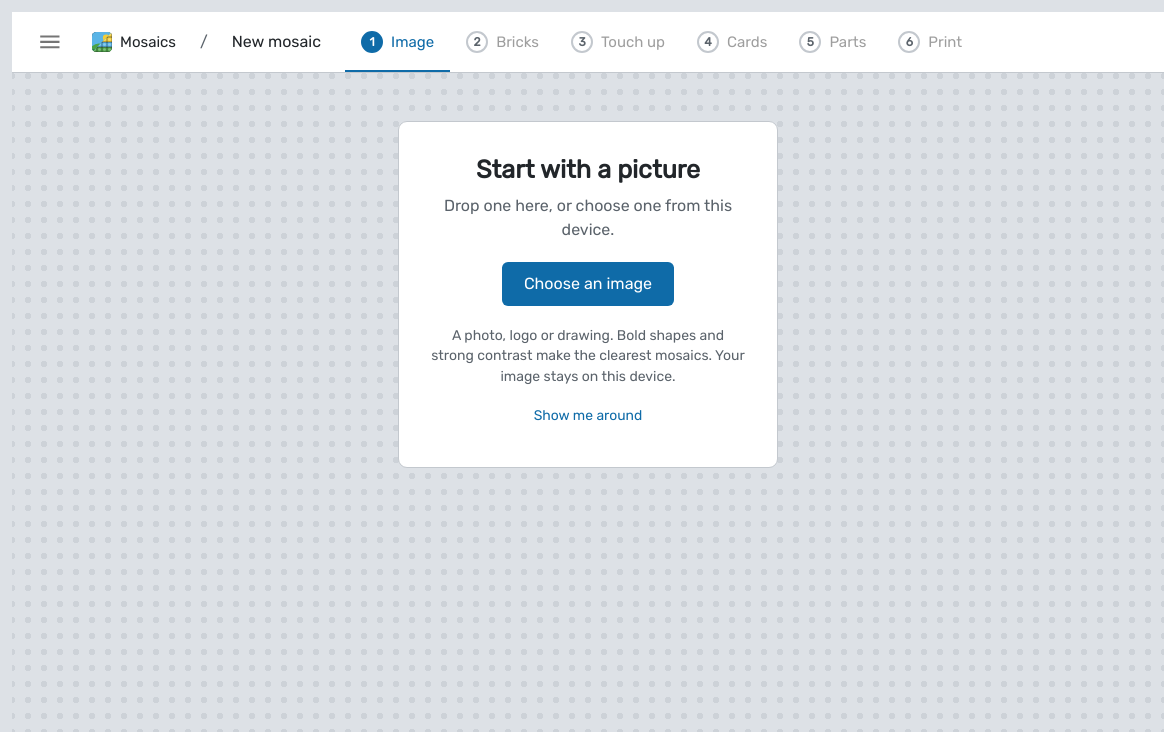
it: Project menu › saves a template: settings only
The image size is (1164, 732).
Step 1. Click the button named "Menu" → (50, 42), box [28,20,72,64]
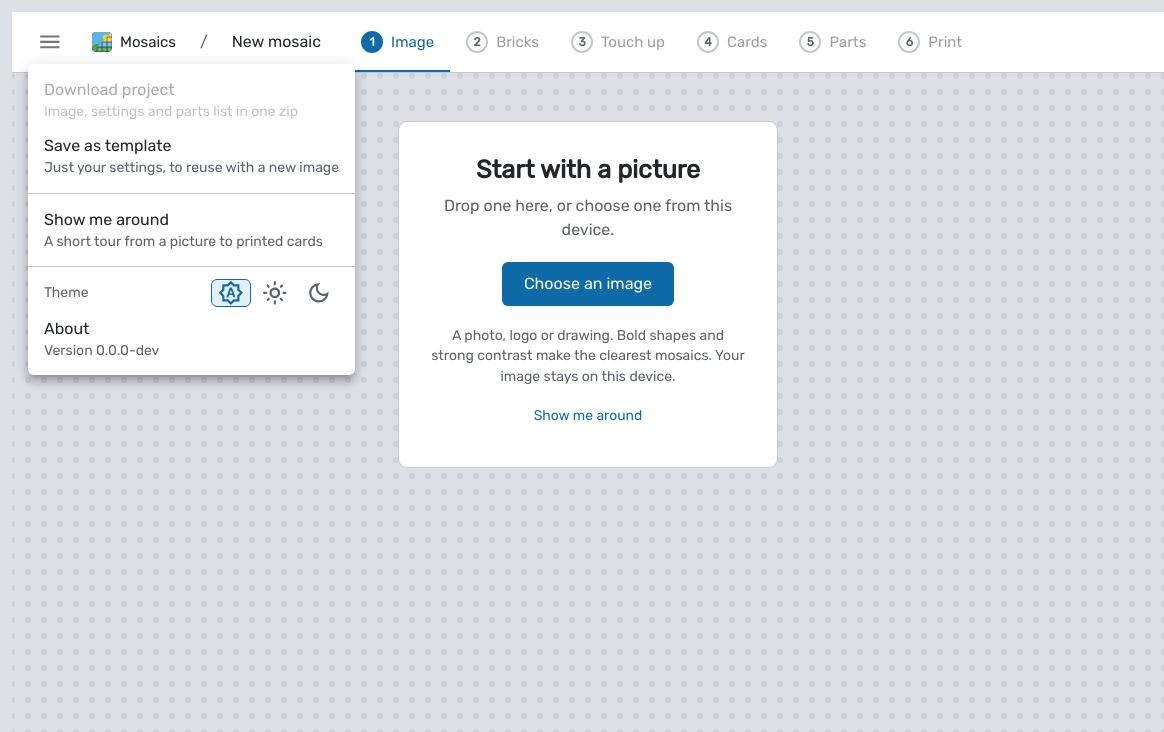
Step 2. Click the menu item "Save as template" → (192, 156), box [28,128,355,185]
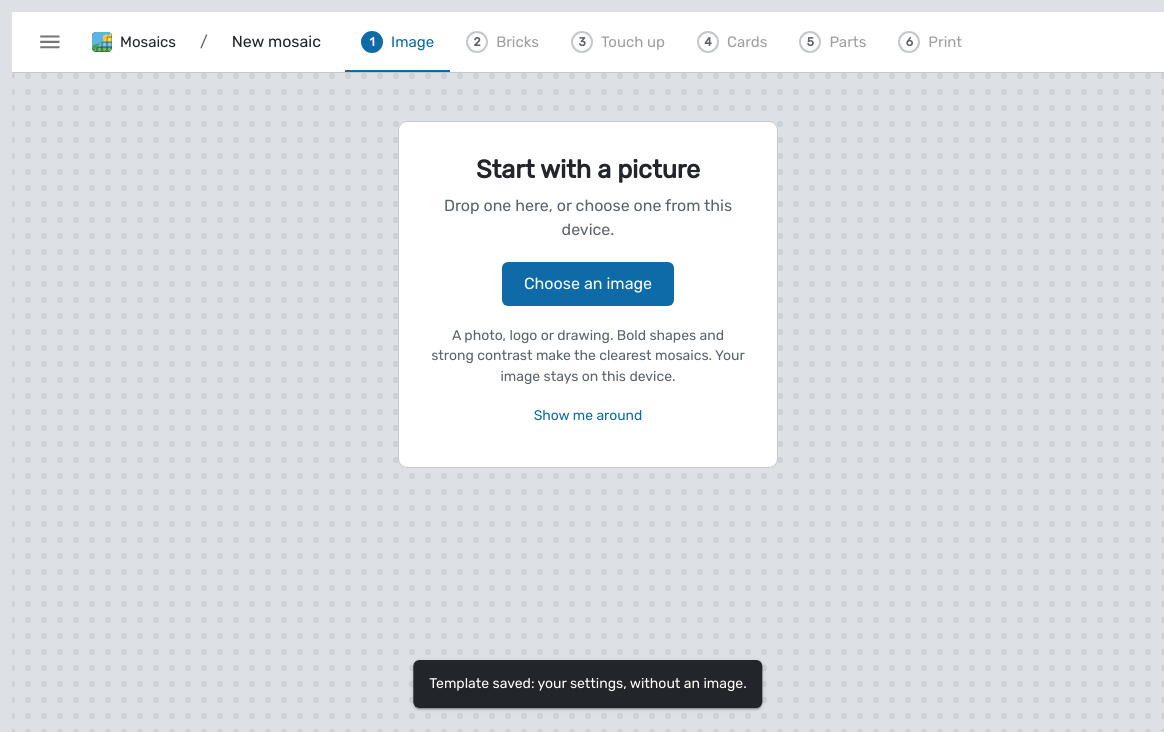
Expected: the text "Template saved: your settings, without an image." is shown, [429,674,747,694]
